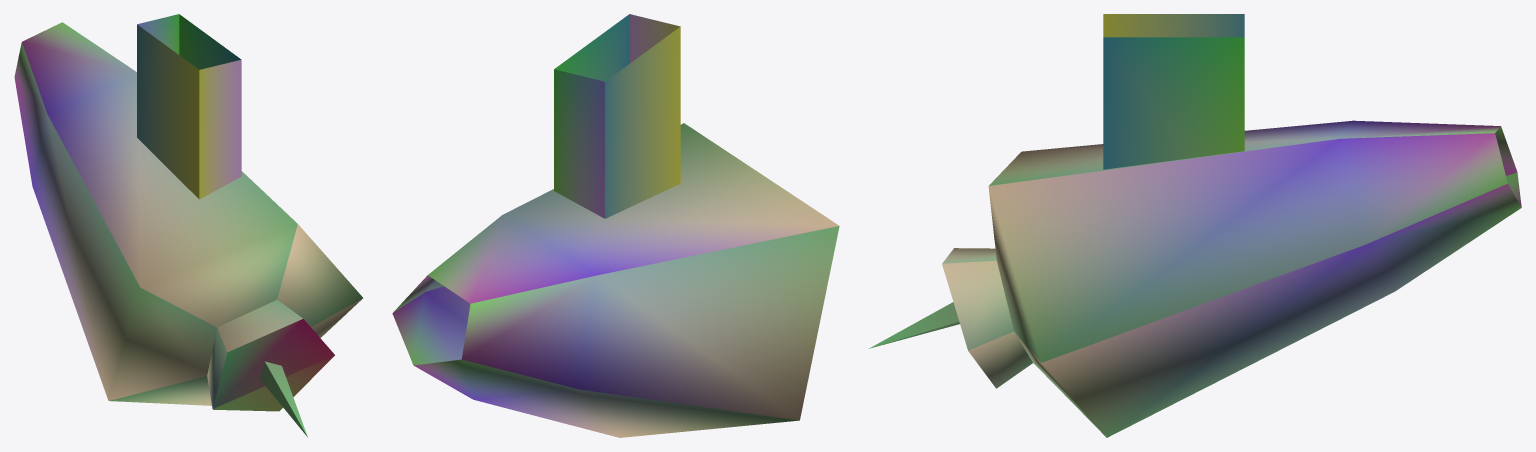
Rendered from Torch_Wall.glb.
3 renders of one model, left to right at view 1: azimuth 30°, elevation 25°; view 2: azimuth 150°, elevation 25°; view 3: azimuth 270°, elevation 25°, orthographic. The views are drawn at different scales.
Visible parts, largest first — view 1: MeshNode_0; view 2: MeshNode_0; view 3: MeshNode_0.
Part boxes in pixels (x1,y1,x2,y2): MeshNode_0: [14, 14, 362, 437]; MeshNode_0: [392, 14, 839, 437]; MeshNode_0: [869, 14, 1521, 437].
Size of the model in its own units: 1.62 by 2.35 by 3.5.
